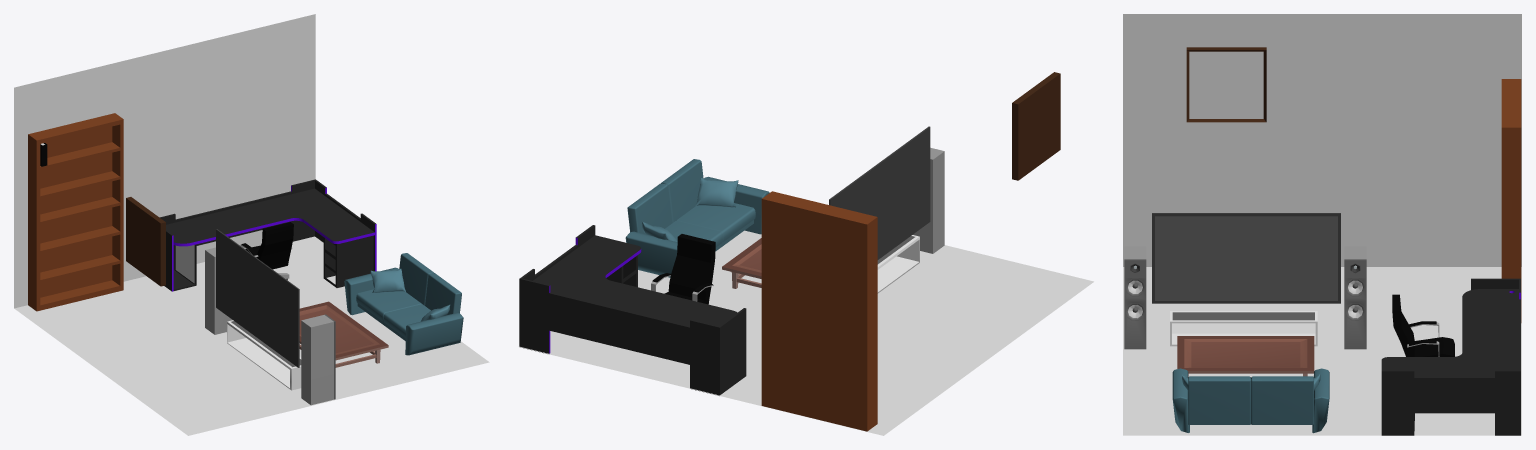
The model's file is room.glb.
The picture shows the model from 3 angles, left to right: view 1: azimuth 30°, elevation 25°; view 2: azimuth 150°, elevation 25°; view 3: azimuth 270°, elevation 25°; orthographic projection. The views are drawn at different scales.
Visible parts, largest first — view 1: Plane, BookShelfCore, tv_wall_001, Desk, sofa_001, Photo, coffee_table_001, Chair; view 2: Plane, BookShelfCore, Desk, tv_wall_001, sofa_001, Photo, Chair, coffee_table_001; view 3: Plane, tv_wall_001, Desk, sofa_001, Photo, coffee_table_001, BookShelfCore, Chair.
Boxes of the visible parts, bbox=[...] form: Plane: bbox=[14, 14, 489, 435]; BookShelfCore: bbox=[28, 113, 123, 311]; tv_wall_001: bbox=[205, 229, 335, 405]; Desk: bbox=[159, 179, 376, 291]; sofa_001: bbox=[344, 253, 463, 355]; Photo: bbox=[126, 197, 165, 286]; coffee_table_001: bbox=[299, 301, 388, 367]; Chair: bbox=[240, 222, 293, 279]; Plane: bbox=[518, 230, 1093, 435]; BookShelfCore: bbox=[761, 191, 877, 431]; Desk: bbox=[519, 225, 746, 395]; tv_wall_001: bbox=[829, 126, 944, 293]; sofa_001: bbox=[625, 159, 769, 277]; Photo: bbox=[1012, 72, 1060, 180]; Chair: bbox=[651, 234, 715, 304]; coffee_table_001: bbox=[722, 238, 761, 288]; Plane: bbox=[1123, 14, 1521, 435]; tv_wall_001: bbox=[1124, 213, 1366, 349]; Desk: bbox=[1381, 278, 1520, 435]; sofa_001: bbox=[1172, 368, 1329, 433]; Photo: bbox=[1186, 47, 1266, 122]; coffee_table_001: bbox=[1177, 336, 1314, 376]; BookShelfCore: bbox=[1501, 79, 1521, 322]; Chair: bbox=[1392, 294, 1454, 356].
Size of the model in its own units: 10.04 by 7.02 by 10.
9 materials, 1 textured.
